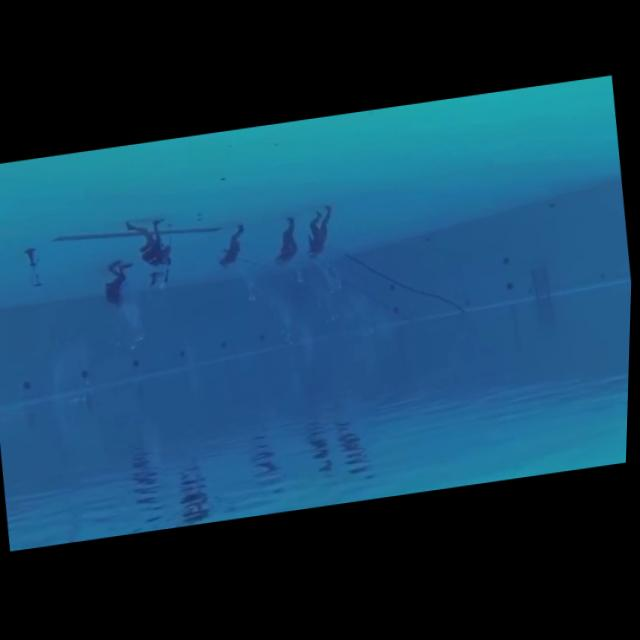human: (118, 208, 183, 277), (296, 196, 348, 276), (97, 252, 143, 321), (209, 219, 258, 282), (266, 213, 307, 279)
